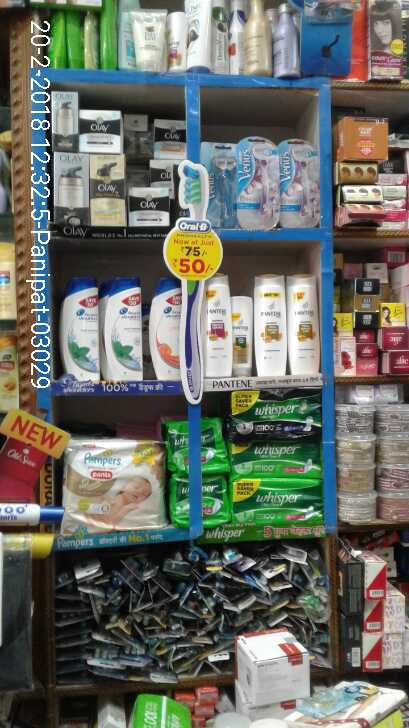venus: (239, 138, 280, 226), (281, 138, 319, 226), (207, 144, 239, 225)
